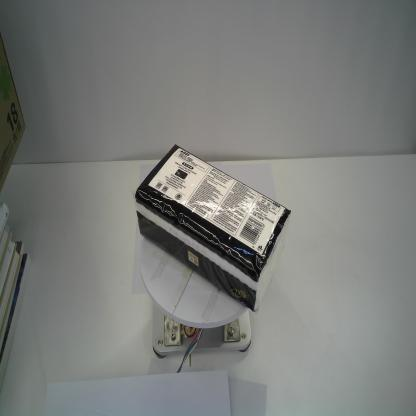Tissue: (134, 142, 292, 314)
